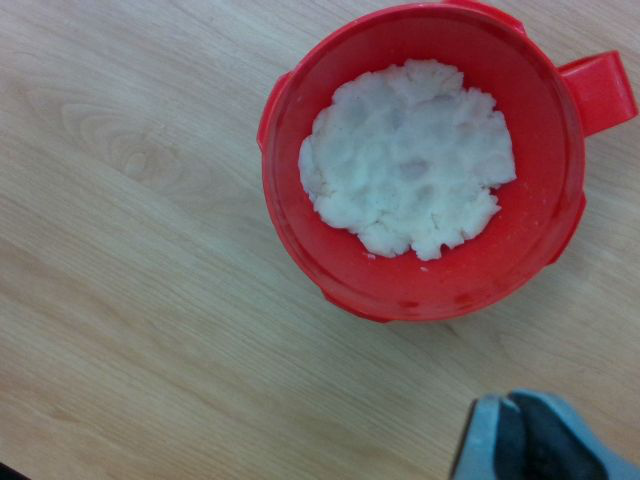mashed_potato: (298, 59, 516, 258)
